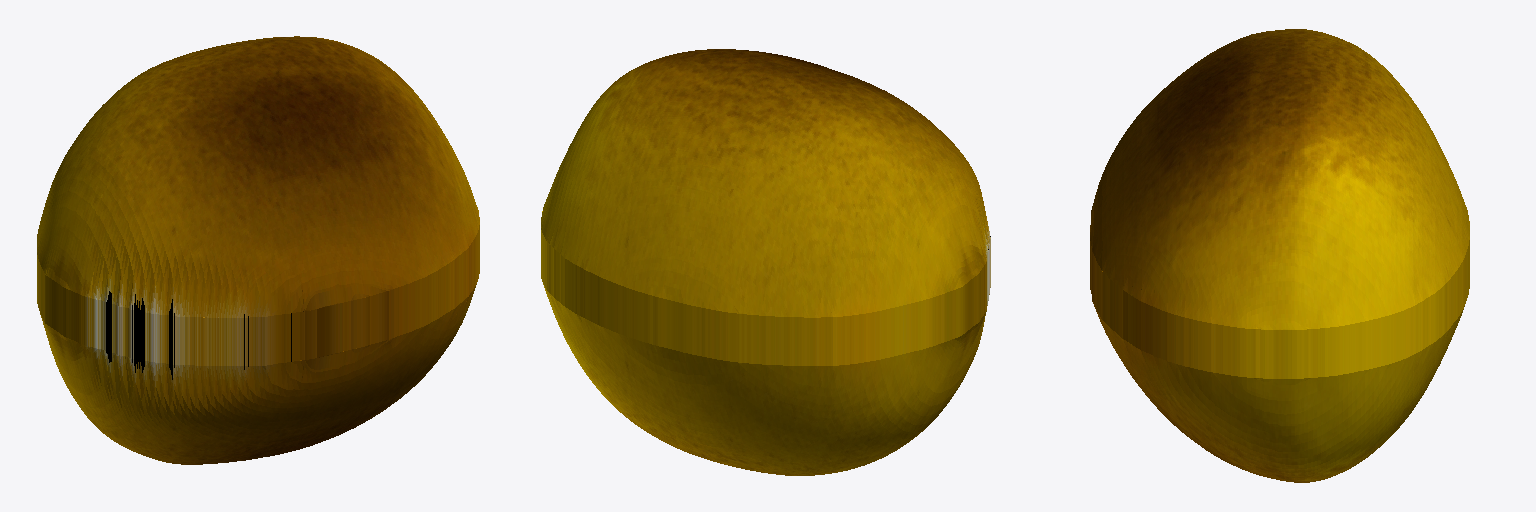
The picture shows the model from 3 angles: view 1: azimuth 30°, elevation 25°; view 2: azimuth 150°, elevation 25°; view 3: azimuth 270°, elevation 25°; orthographic projection.
Parts seen in each view (by area): view 1: Grid; view 2: Grid; view 3: Grid.
Part boxes in pixels (left/top/right/bottom): Grid: left=37, top=36, right=479, bottom=464; Grid: left=541, top=49, right=990, bottom=475; Grid: left=1090, top=29, right=1469, bottom=482.
Bounding box in the file's own units: 1.74 × 1.6 × 1.42.
Materials: 1 (1 with a texture image).